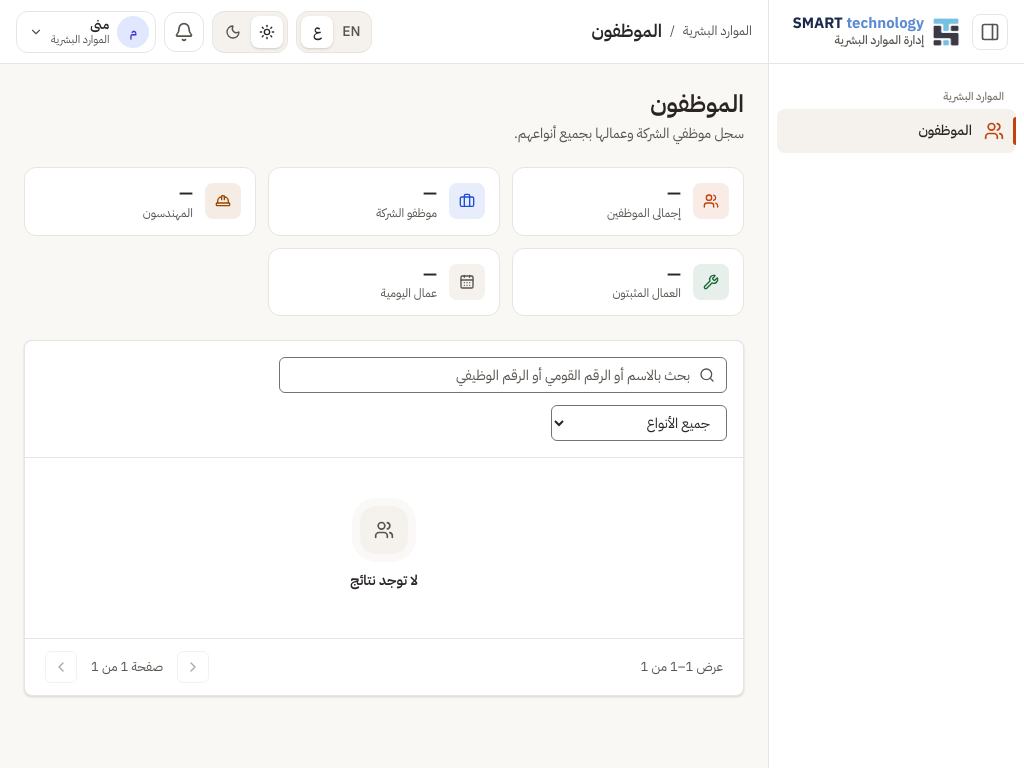
Test: the profile menu shows the account and signs out from there
Click the button with aria-label "قائمة الحساب": (86, 32) [16,10,156,52]
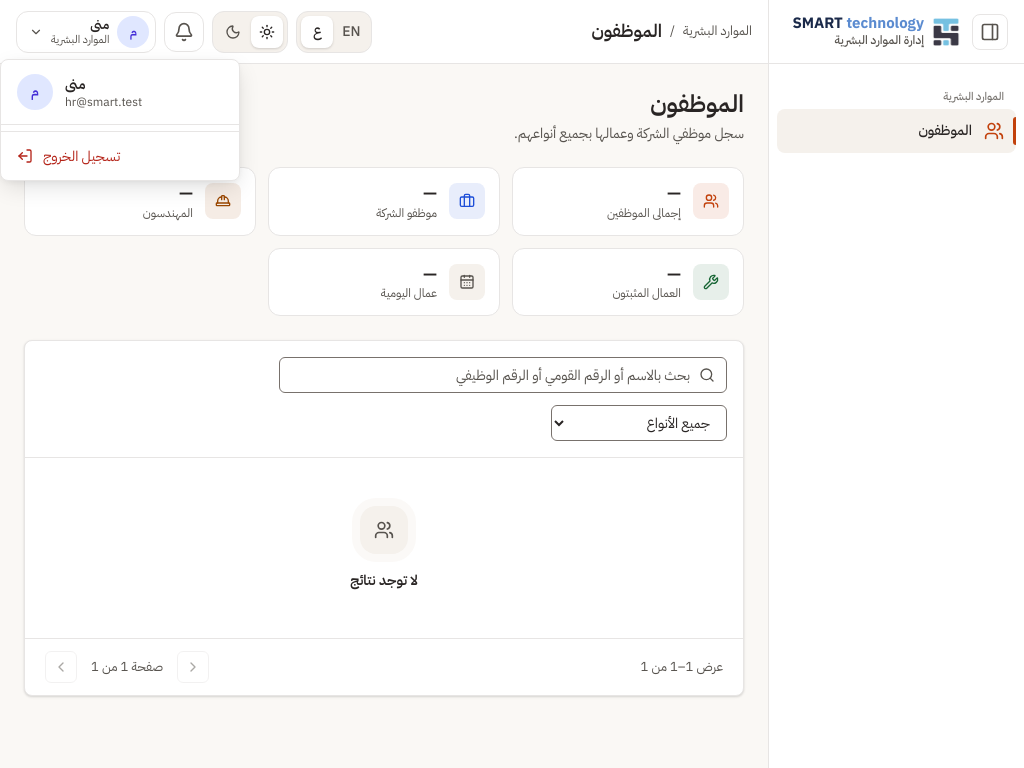
Now the menu item "تسجيل الخروج" is shown, box [17,147,120,165]
Now the text "hr@smart.test" is shown, box [65,94,142,110]
